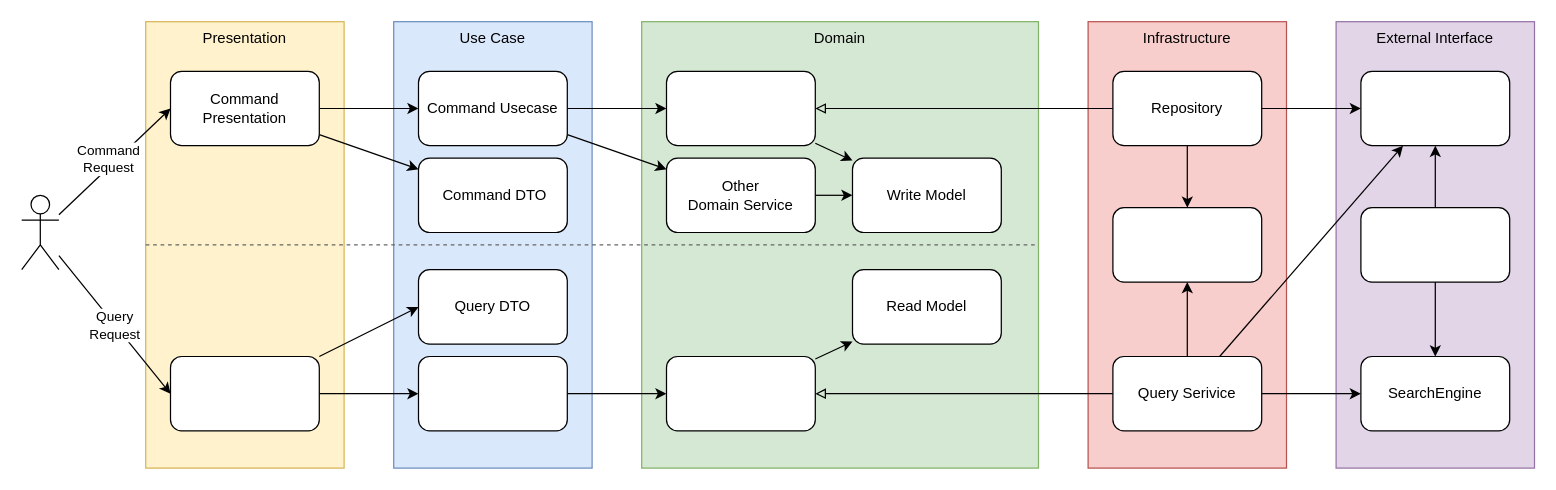
Image size: 1556x490. Some labels were removed from this diagram. Each missing label, with the centre of its shape:
Actor: (39,232)
ORM: (1187,244)
Query Presentation: (244,393)
Query Service Interface: (740,393)
Query Usecase: (492,393)
RDB: (1435,108)
Repository Interface: (740,108)
SyncProceccer: (1435,244)
